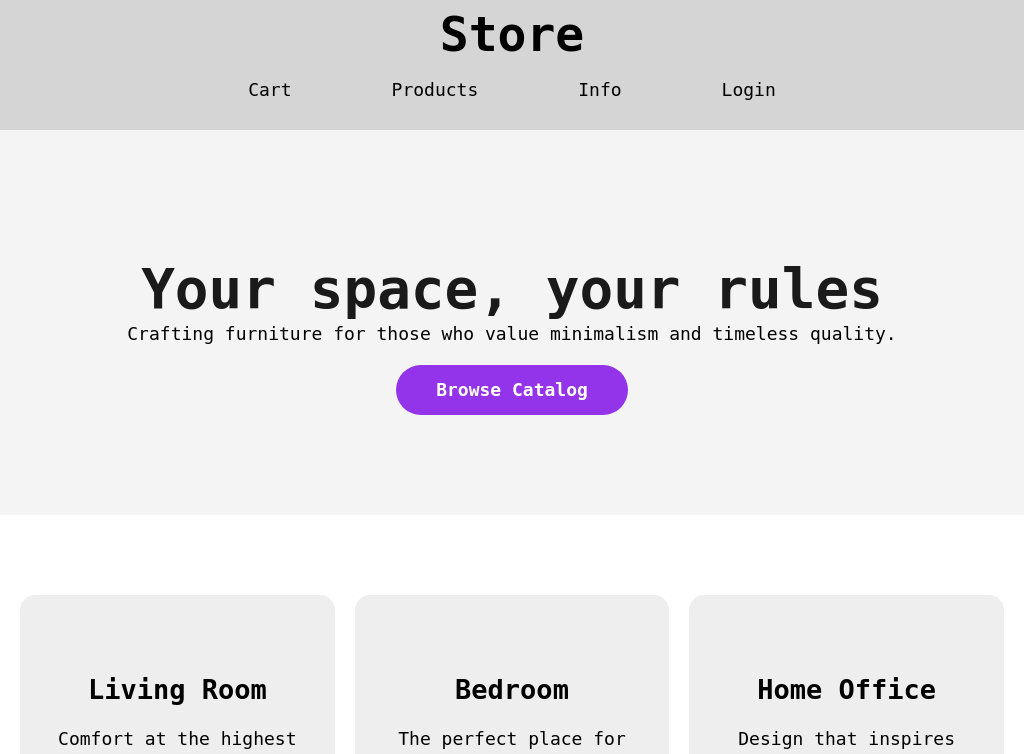
Test case: TC-03: Navigation – cart › go to /cart from top menu
Click the link "Cart" at (270, 90), box [248,79,291,100]
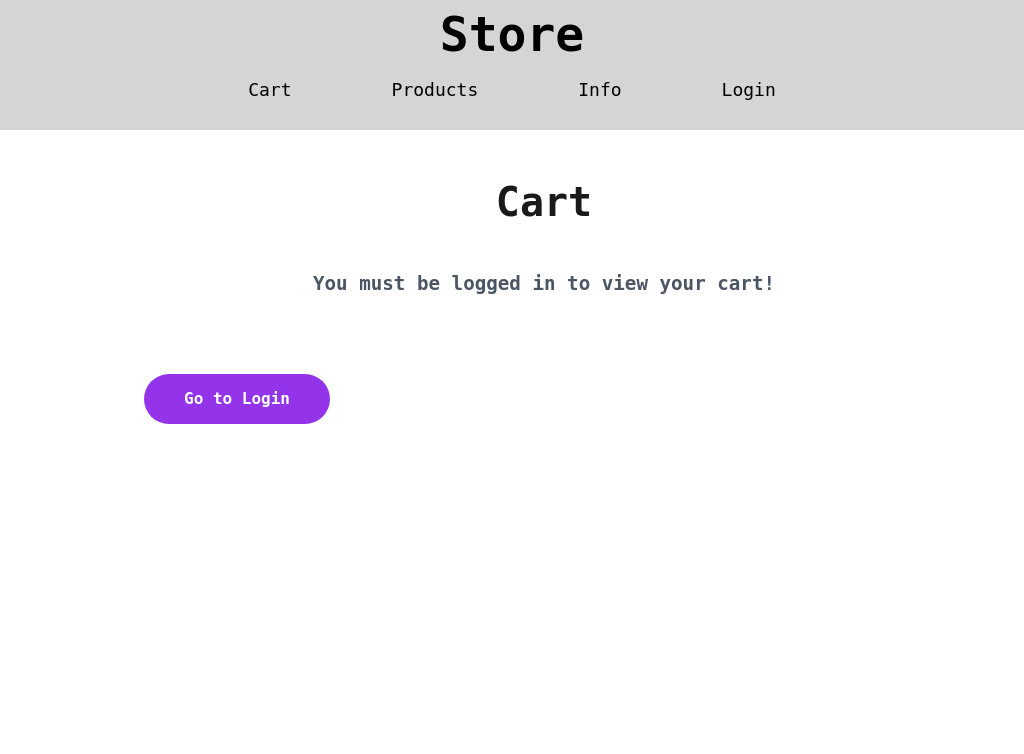
Result: the heading "Cart" is shown at [496,189,592,215]
